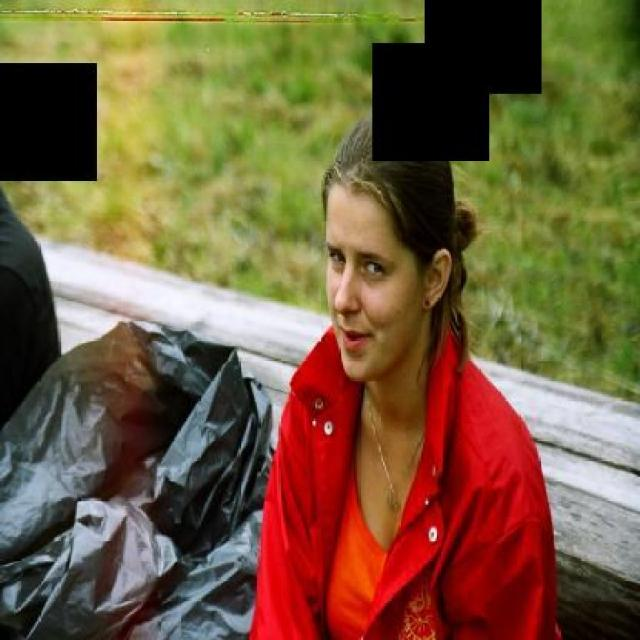plastic bag: (0, 318, 280, 638)
